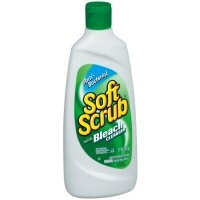grozi_84: (62, 0, 136, 198)
